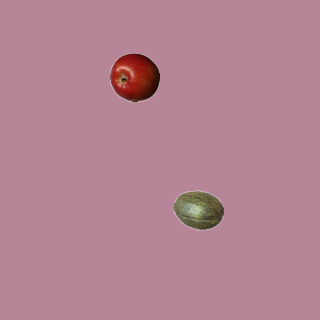Apple Braeburn: (109, 52, 159, 102)
Melon Piel de Sapo: (173, 185, 223, 235)
